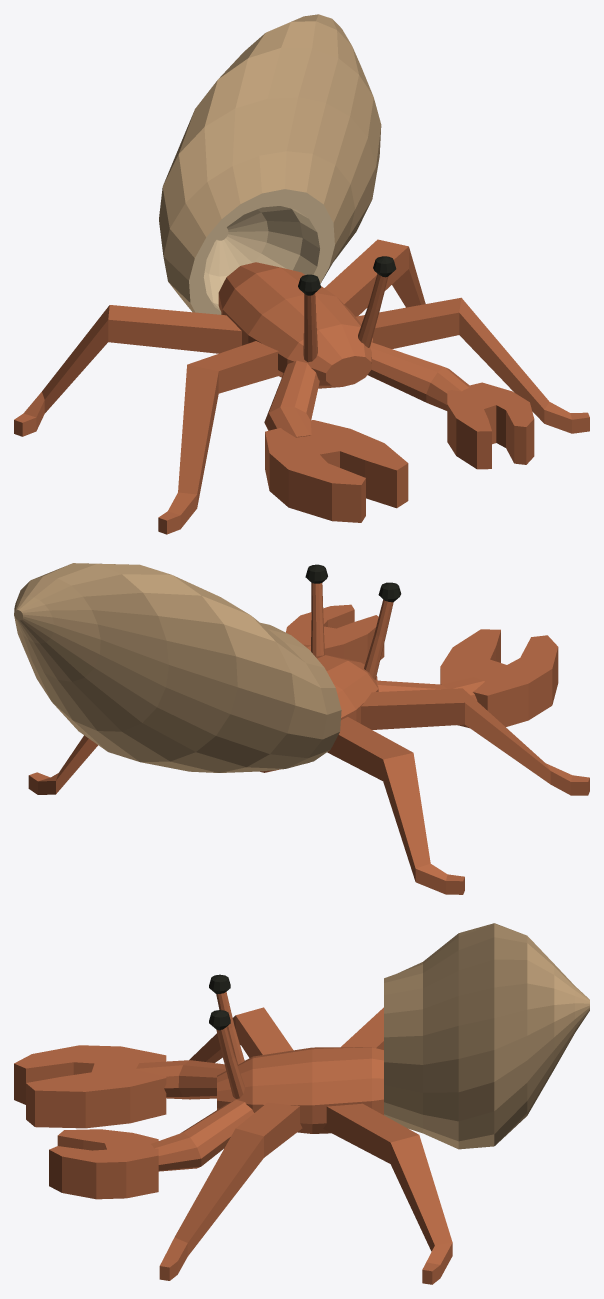
3 views of the same model, one above another, from view 1: azimuth 30°, elevation 25°; view 2: azimuth 150°, elevation 25°; view 3: azimuth 270°, elevation 25° (orthographic). The views are drawn at different scales.
Parts seen in each view (by area): view 1: WholeRisingSpiralTurretShellAndThickOpenAperture, WholeUnequalThickOpenPincer0, WholeNarrowExposedHermitForebody, WholeLongBentGroundedWalkingLeg0_1, WholeLongBentGroundedWalkingLeg0_0, WholeLongBentGroundedWalkingLeg1_0, WholeUnequalThickOpenPincer1, WholeLongBentGroundedWalkingLeg1_1, WholeBentUnequalClawArm1, WholeBentUnequalClawArm0, WholeLongRisingHermitEyeStalk1, WholeLongRisingHermitEyeStalk0; view 2: WholeRisingSpiralTurretShellAndThickOpenAperture, WholeUnequalThickOpenPincer0, WholeLongBentGroundedWalkingLeg0_0, WholeLongBentGroundedWalkingLeg0_1, WholeUnequalThickOpenPincer1, WholeNarrowExposedHermitForebody, WholeLongBentGroundedWalkingLeg1_1, WholeBentUnequalClawArm0, WholeLongRisingHermitEyeStalk0, WholeLongRisingHermitEyeStalk1; view 3: WholeRisingSpiralTurretShellAndThickOpenAperture, WholeUnequalThickOpenPincer0, WholeNarrowExposedHermitForebody, WholeLongBentGroundedWalkingLeg1_1, WholeUnequalThickOpenPincer1, WholeLongBentGroundedWalkingLeg1_0, WholeBentUnequalClawArm1, WholeLongBentGroundedWalkingLeg0_0, WholeBentUnequalClawArm0, WholeLongBentGroundedWalkingLeg0_1, WholeLongRisingHermitEyeStalk1, WholeLongRisingHermitEyeStalk0.
Part boxes in pixels (<box>): WholeRisingSpiralTurretShellAndThickOpenAperture: <box>159,14,381,314</box>; WholeUnequalThickOpenPincer0: <box>265,420,408,522</box>; WholeNarrowExposedHermitForebody: <box>218,262,372,388</box>; WholeLongBentGroundedWalkingLeg0_1: <box>14,305,241,436</box>; WholeLongBentGroundedWalkingLeg0_0: <box>158,341,281,534</box>; WholeLongBentGroundedWalkingLeg1_0: <box>356,297,589,433</box>; WholeUnequalThickOpenPincer1: <box>447,382,534,469</box>; WholeLongBentGroundedWalkingLeg1_1: <box>324,239,425,316</box>; WholeBentUnequalClawArm1: <box>367,342,469,410</box>; WholeBentUnequalClawArm0: <box>264,360,319,437</box>; WholeLongRisingHermitEyeStalk1: <box>358,274,388,347</box>; WholeLongRisingHermitEyeStalk0: <box>303,293,317,362</box>; WholeRisingSpiralTurretShellAndThickOpenAperture: <box>14,563,341,772</box>; WholeUnequalThickOpenPincer0: <box>440,629,558,728</box>; WholeLongBentGroundedWalkingLeg0_0: <box>361,688,589,795</box>; WholeLongBentGroundedWalkingLeg0_1: <box>327,717,464,894</box>; WholeUnequalThickOpenPincer1: <box>286,604,384,664</box>; WholeNarrowExposedHermitForebody: <box>260,655,378,772</box>; WholeLongBentGroundedWalkingLeg1_1: <box>28,735,97,794</box>; WholeBentUnequalClawArm0: <box>376,677,484,700</box>; WholeLongRisingHermitEyeStalk0: <box>364,599,393,679</box>; WholeLongRisingHermitEyeStalk1: <box>311,583,324,656</box>; WholeRisingSpiralTurretShellAndThickOpenAperture: <box>384,923,589,1149</box>; WholeUnequalThickOpenPincer0: <box>14,1045,166,1128</box>; WholeNarrowExposedHermitForebody: <box>217,1047,383,1133</box>; WholeLongBentGroundedWalkingLeg1_1: <box>323,1103,452,1284</box>; WholeUnequalThickOpenPincer1: <box>49,1129,158,1199</box>; WholeLongBentGroundedWalkingLeg1_0: <box>159,1102,302,1280</box>; WholeBentUnequalClawArm1: <box>151,1100,253,1171</box>; WholeLongBentGroundedWalkingLeg0_0: <box>189,1007,293,1062</box>; WholeBentUnequalClawArm0: <box>136,1060,225,1099</box>; WholeLongBentGroundedWalkingLeg0_1: <box>341,1007,383,1049</box>; WholeLongRisingHermitEyeStalk1: <box>216,1027,244,1098</box>; WholeLongRisingHermitEyeStalk0: <box>216,992,244,1064</box>.
Size of the model in its own units: 1.66 by 1.06 by 1.93.
